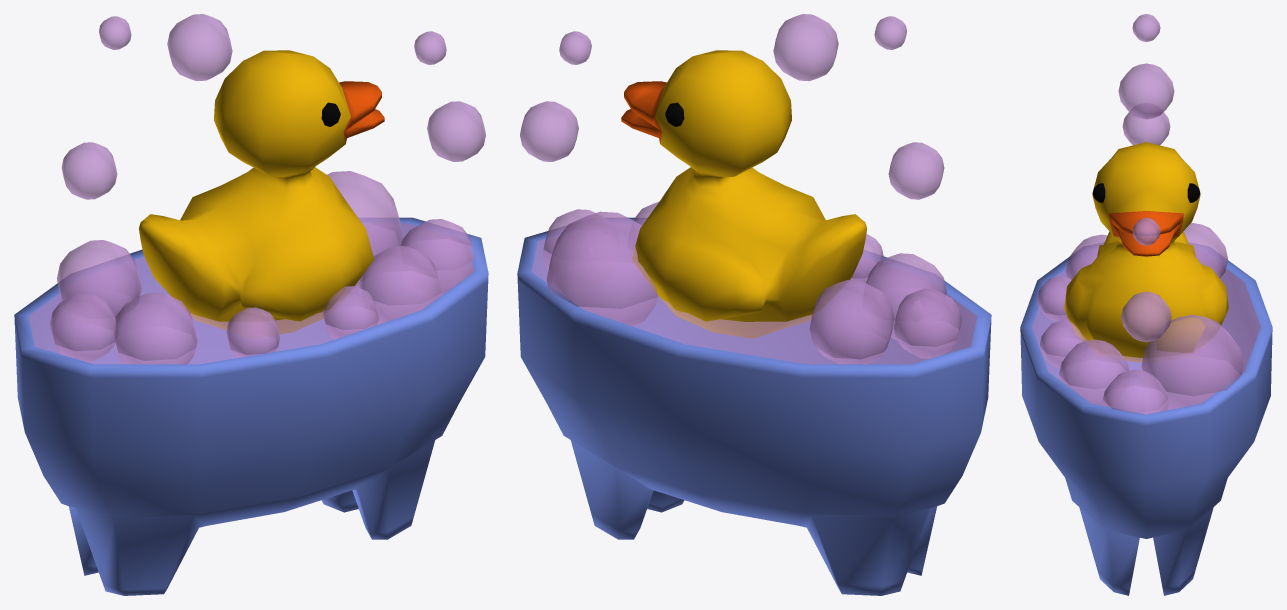
The model's file is rubber_duck.glb.
3 renders of one model, left to right at view 1: azimuth 30°, elevation 25°; view 2: azimuth 150°, elevation 25°; view 3: azimuth 270°, elevation 25°, orthographic. The views are drawn at different scales.
Parts seen in each view (by area): view 1: Sphere_3, Cube_1, Sphere.003_6, Sphere.011_14, Sphere.002_5, Sphere.001_4, Sphere.009_12, Sphere.004_7, Sphere.005_8, Sphere.006_9, Sphere.010_13, Sphere.012_15 (+3 smaller); view 2: Sphere_3, Cube_1, Sphere.004_7, Sphere.002_5, Sphere.001_4, Sphere.009_12, Sphere.003_6, Sphere.006_9, Sphere.010_13, Sphere.005_8, Sphere.008_11, Sphere.007_10 (+1 smaller); view 3: Sphere_3, Cube_1, Sphere.004_7, Sphere.011_14, Sphere.009_12, Sphere.005_8, Sphere.006_9, Sphere.002_5, Sphere.012_15, Sphere.010_13, Sphere.013_16, Sphere.003_6 (+3 smaller).
Boxes of the visible parts, <box> form: Sphere_3: <box>14,217,488,595</box>; Cube_1: <box>138,50,384,334</box>; Sphere.003_6: <box>113,292,197,363</box>; Sphere.011_14: <box>359,246,441,324</box>; Sphere.002_5: <box>57,240,141,317</box>; Sphere.001_4: <box>50,293,117,362</box>; Sphere.009_12: <box>167,14,232,81</box>; Sphere.004_7: <box>327,171,403,287</box>; Sphere.005_8: <box>401,219,475,294</box>; Sphere.006_9: <box>427,101,485,161</box>; Sphere.010_13: <box>61,142,117,199</box>; Sphere.012_15: <box>322,286,378,339</box>; Sphere_3: <box>517,217,991,595</box>; Cube_1: <box>621,50,867,338</box>; Sphere.004_7: <box>546,211,658,326</box>; Sphere.002_5: <box>809,280,894,363</box>; Sphere.001_4: <box>893,288,961,358</box>; Sphere.009_12: <box>773,14,838,81</box>; Sphere.003_6: <box>866,253,946,339</box>; Sphere.006_9: <box>520,101,578,161</box>; Sphere.010_13: <box>888,142,944,199</box>; Sphere.005_8: <box>543,209,595,270</box>; Sphere.008_11: <box>874,16,906,49</box>; Sphere.007_10: <box>559,31,591,64</box>; Sphere_3: <box>1020,243,1272,595</box>; Cube_1: <box>1064,142,1228,362</box>; Sphere.004_7: <box>1141,314,1243,409</box>; Sphere.011_14: <box>1059,339,1129,405</box>; Sphere.009_12: <box>1118,63,1174,119</box>; Sphere.005_8: <box>1102,369,1168,414</box>; Sphere.006_9: <box>1121,291,1171,342</box>; Sphere.002_5: <box>1183,222,1227,278</box>; Sphere.012_15: <box>1040,320,1087,367</box>; Sphere.010_13: <box>1122,112,1170,145</box>; Sphere.013_16: <box>1037,276,1071,321</box>; Sphere.003_6: <box>1065,234,1107,279</box>.
Size of what is drawn, in the model's own units: 3.28 by 3.81 by 1.87.
